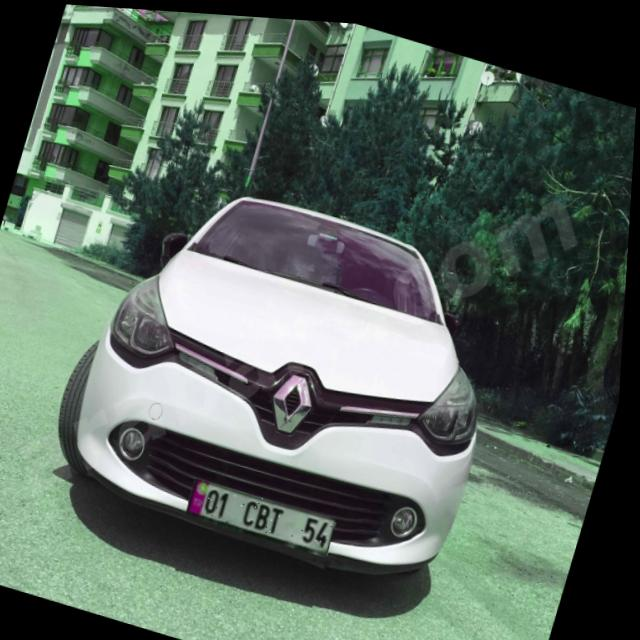license_plate: (190, 474, 343, 552)
